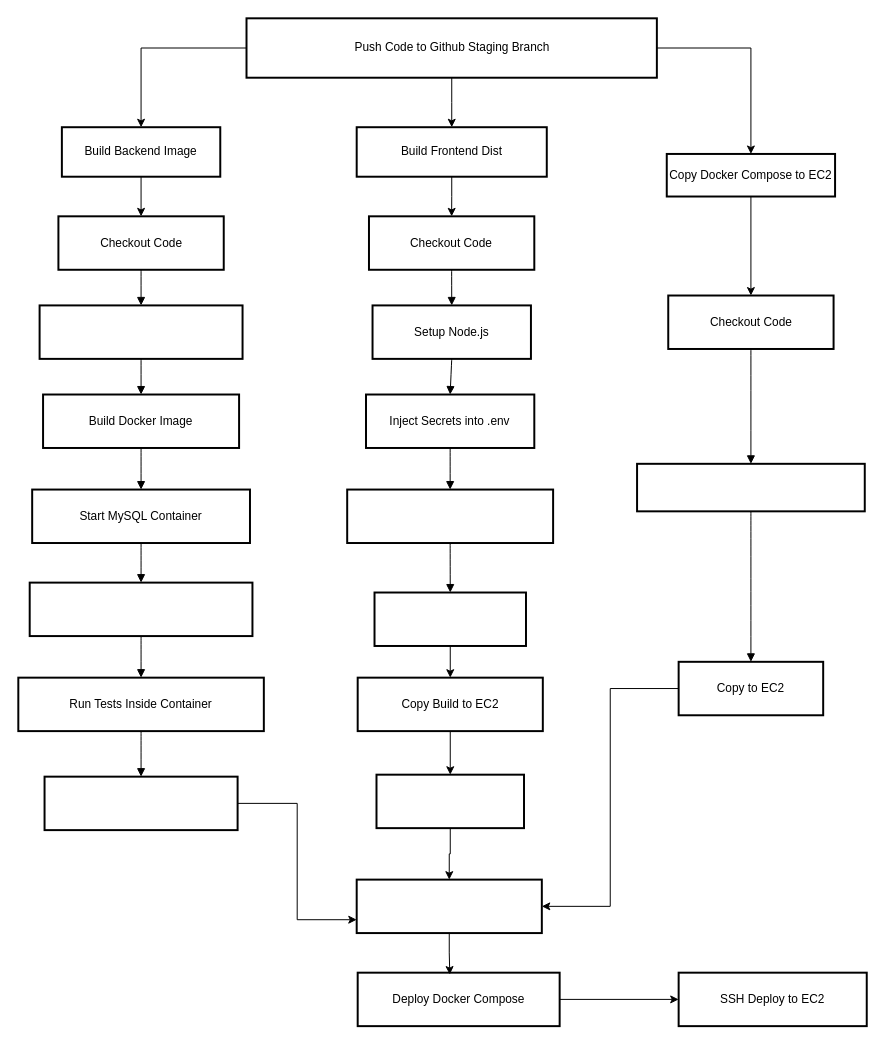
Some shapes in this 884 by 1043 pixel diagram are drawn without their labels. Each missing label, with the box of its shape:
Build Project: (373, 591, 526, 646)
Check / Testing / Docker: (355, 878, 542, 934)
Deploy to S3: (375, 773, 525, 829)
Inject Secrets into docker-compose.yaml: (636, 462, 865, 512)
Install Dependencies: (346, 488, 554, 544)
Login to Docker Hub: (38, 304, 243, 359)
Push Docker Image: (43, 775, 238, 831)
Wait for MySQL Startup: (28, 581, 253, 637)
